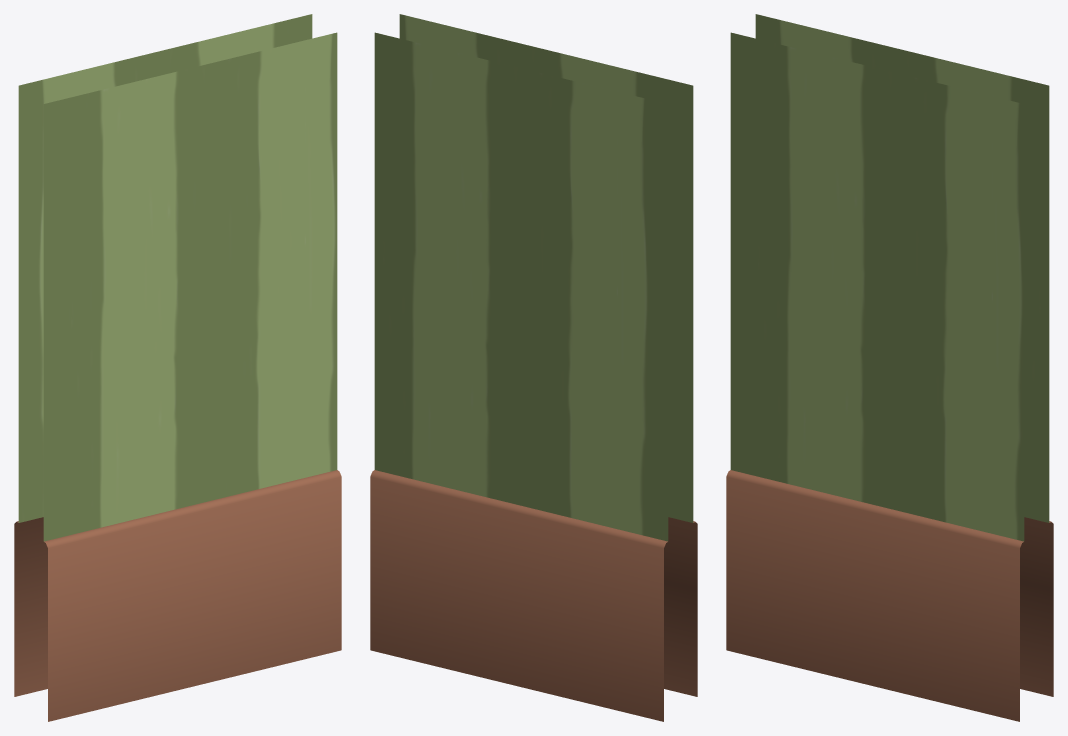
Rendered from wall_GH.fbx.
3 views of the same model, side by side, from view 1: azimuth 30°, elevation 25°; view 2: azimuth 150°, elevation 25°; view 3: azimuth 330°, elevation 25° (orthographic).
Parts seen in each view (by area): view 1: Cube.002; view 2: Cube.002; view 3: Cube.002.
Part boxes in pixels (x1,y1,x2,y2): Cube.002: [14, 14, 341, 721]; Cube.002: [370, 14, 697, 721]; Cube.002: [726, 14, 1053, 721].
Bounding box in the file's own units: 300 × 600 × 60.
